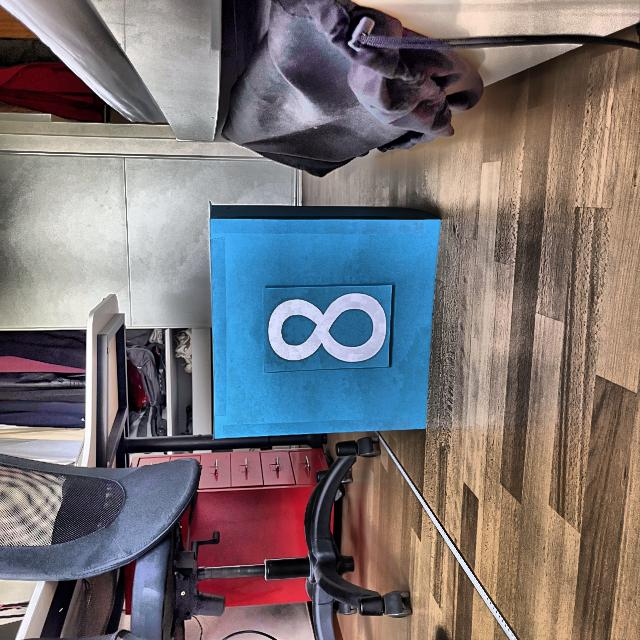blue box: (208, 199, 433, 443)
eight: (266, 288, 390, 366)
